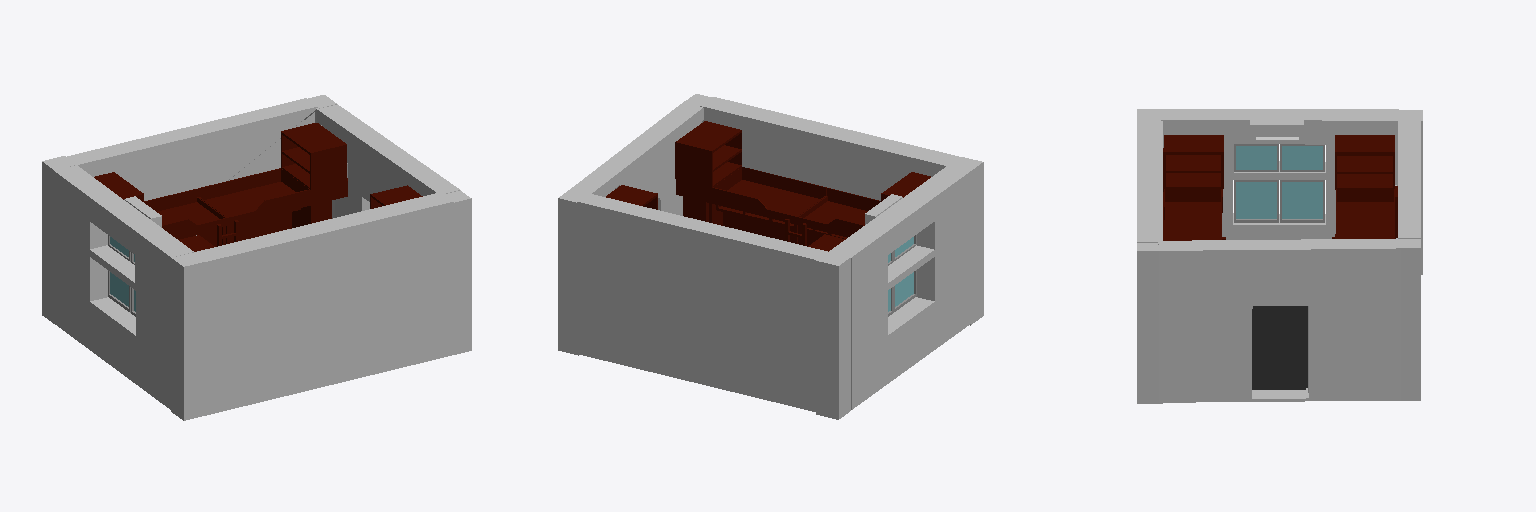
3 renders of one model, left to right at view 1: azimuth 30°, elevation 25°; view 2: azimuth 150°, elevation 25°; view 3: azimuth 270°, elevation 25°, orthographic.
Visible parts, largest first — view 1: house.017_Cube.009_Material.008_test13.png.001, house.032_Cube.024_Material, house.017_Cube.009_Material.002_test12.png.001, house.071_Cube.063_Material.007; view 2: house.017_Cube.009_Material.008_test13.png.001, house.071_Cube.063_Material.007, house.017_Cube.009_Material.002_test12.png.001, house.032_Cube.024_Material; view 3: house.017_Cube.009_Material.008_test13.png.001, house.032_Cube.024_Material, house.071_Cube.063_Material.007, house.007_Cube.102_Material.004, house.017_Cube.009_Material.014, house.017_Cube.009_Material.015, house.094_Cube.130_Material.009, house.017_Cube.009_Material.016, house.017_Cube.009_Material.019.
Part boxes in pixels (left/top/right/bottom): house.017_Cube.009_Material.008_test13.png.001: left=42, top=95, right=471, bottom=420; house.032_Cube.024_Material: left=94, top=123, right=347, bottom=246; house.017_Cube.009_Material.002_test12.png.001: left=317, top=110, right=435, bottom=217; house.071_Cube.063_Material.007: left=179, top=185, right=422, bottom=251; house.017_Cube.009_Material.008_test13.png.001: left=558, top=94, right=983, bottom=419; house.071_Cube.063_Material.007: left=675, top=121, right=930, bottom=246; house.017_Cube.009_Material.002_test12.png.001: left=592, top=108, right=703, bottom=215; house.032_Cube.024_Material: left=606, top=185, right=845, bottom=251; house.017_Cube.009_Material.008_test13.png.001: left=1137, top=109, right=1422, bottom=403; house.032_Cube.024_Material: left=1332, top=135, right=1397, bottom=238; house.071_Cube.063_Material.007: left=1163, top=135, right=1225, bottom=240; house.007_Cube.102_Material.004: left=1252, top=306, right=1307, bottom=389; house.017_Cube.009_Material.014: left=1236, top=182, right=1276, bottom=218; house.017_Cube.009_Material.015: left=1282, top=182, right=1322, bottom=218; house.094_Cube.130_Material.009: left=1250, top=120, right=1303, bottom=139; house.017_Cube.009_Material.016: left=1236, top=146, right=1276, bottom=169; house.017_Cube.009_Material.019: left=1282, top=146, right=1322, bottom=169.
Size of the model in its own units: 90.81 by 46.68 by 78.29.